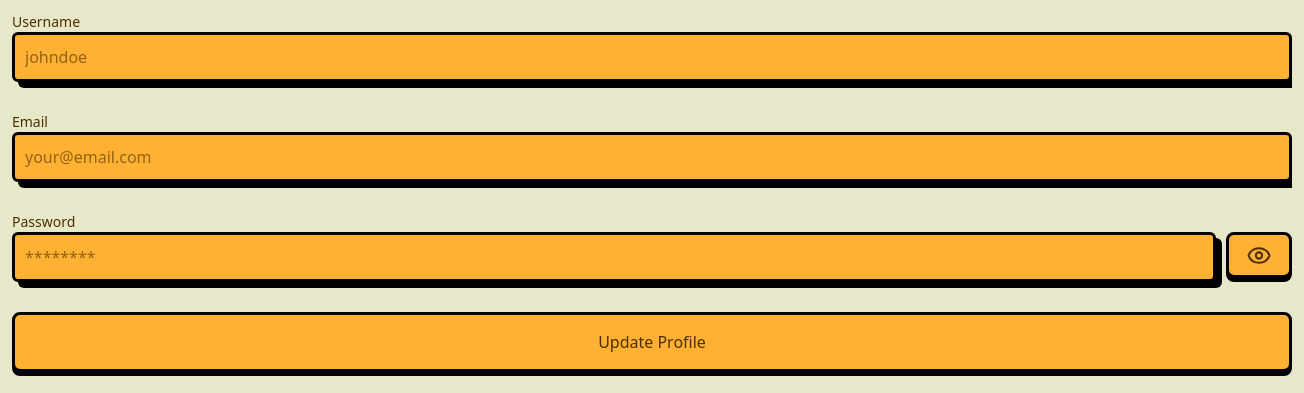
UpdateProfileForm › shows error message when API returns an error
In the field labelled "Username": [652, 57] box [12,32,1292,82], type "user"
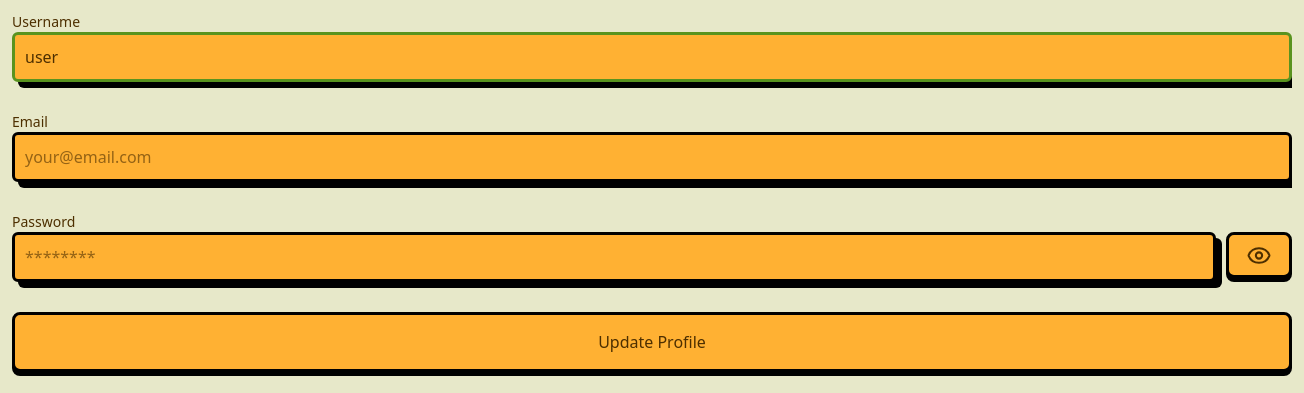
In the field labelled "Email": [652, 157] box [12,132,1292,182], type "user@email.com"
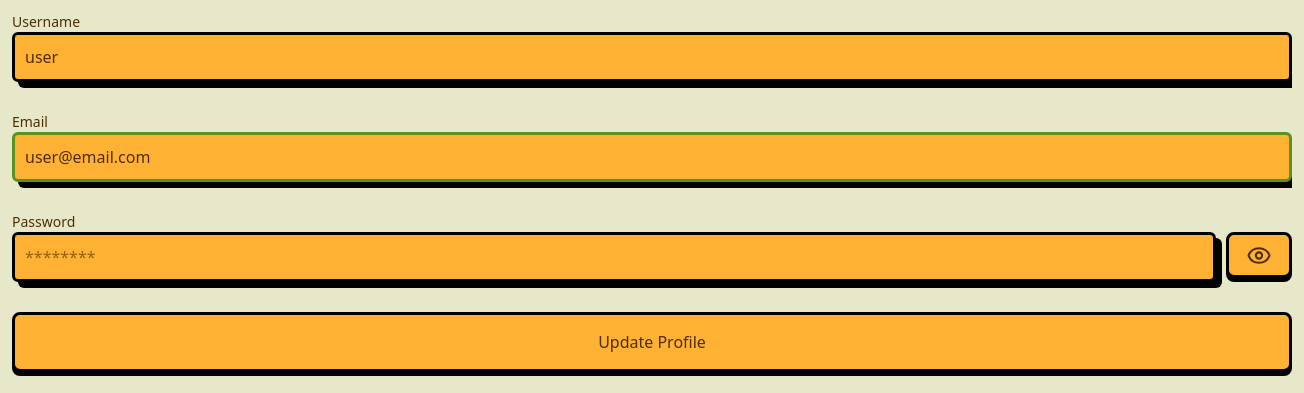
In the password field labelled "Password": [614, 257] box [12,232,1216,282], type "Password123"
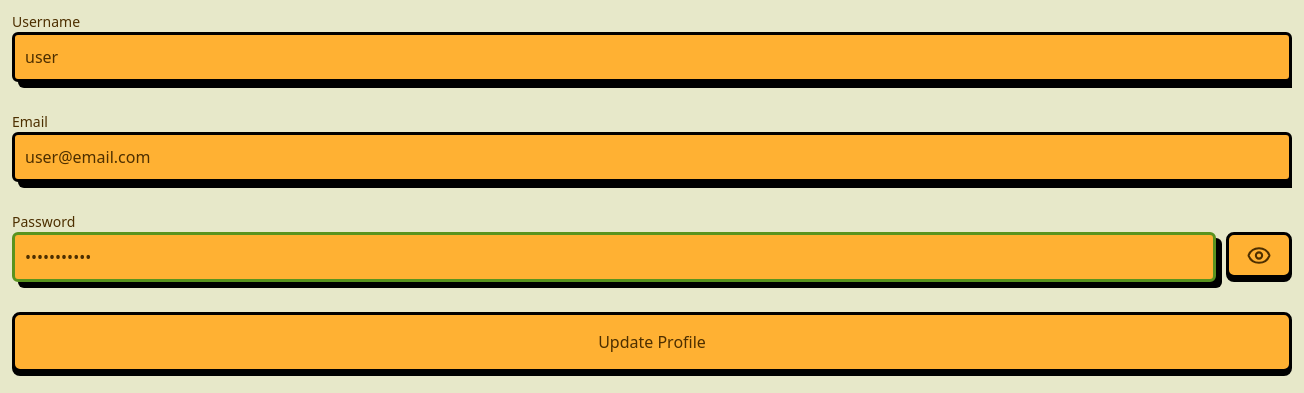
Click the button "Update Profile": [652, 342] box [12,312,1292,372]
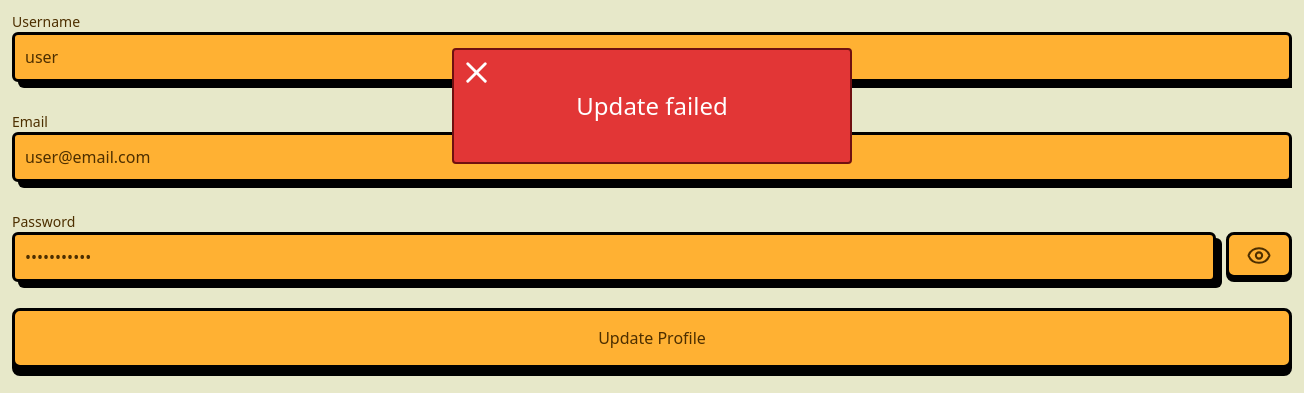
Expected: the text "Update failed" is shown, [576,90,728,122]
